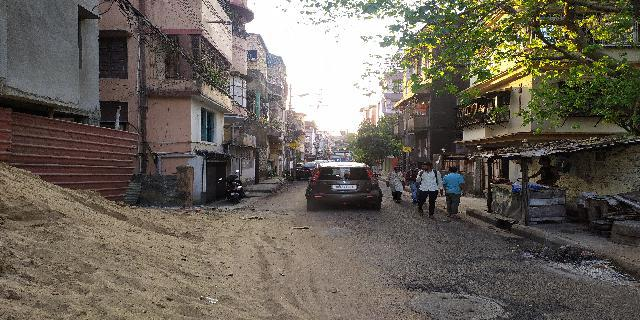Car: (304, 156, 386, 215)
